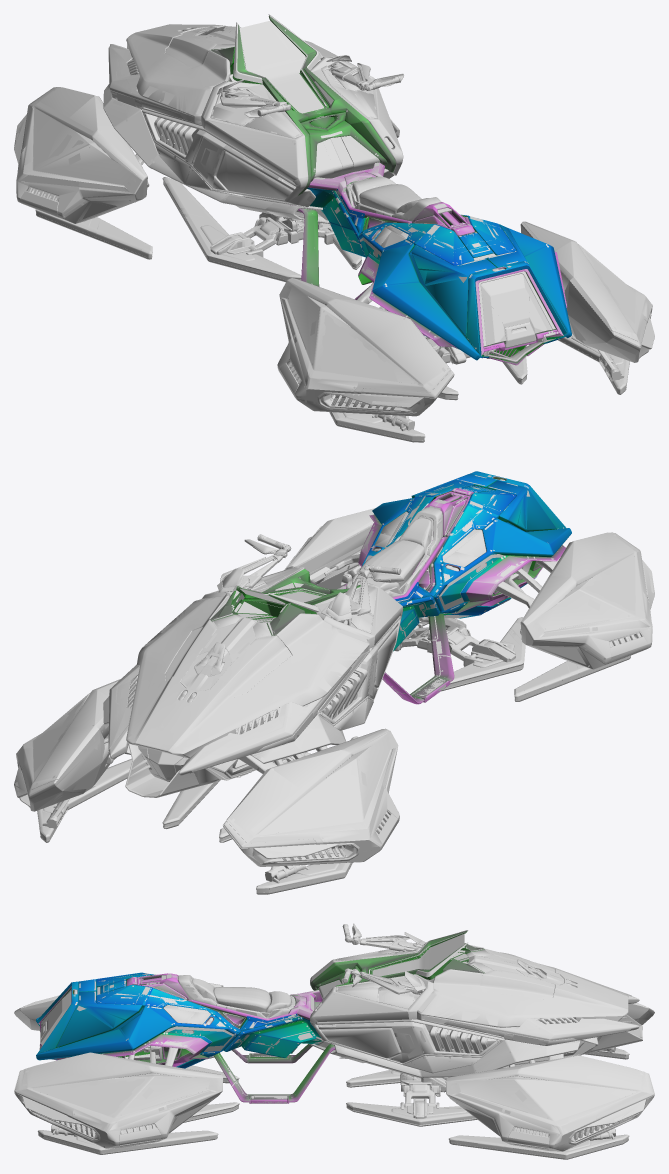
3 renders of one model, top to bottom at view 1: azimuth 30°, elevation 25°; view 2: azimuth 150°, elevation 25°; view 3: azimuth 270°, elevation 25°, orthographic. The views are drawn at different scales.
Visible parts, largest first — view 1: body.003; view 2: body.003; view 3: body.003.
Boxes of the visible parts, box(x1,y1,x2,y2) form: body.003: box(14, 14, 654, 442); body.003: box(14, 471, 654, 894); body.003: box(14, 923, 654, 1159).
Size of the model in its own units: 46.82 by 25.48 by 89.77.
